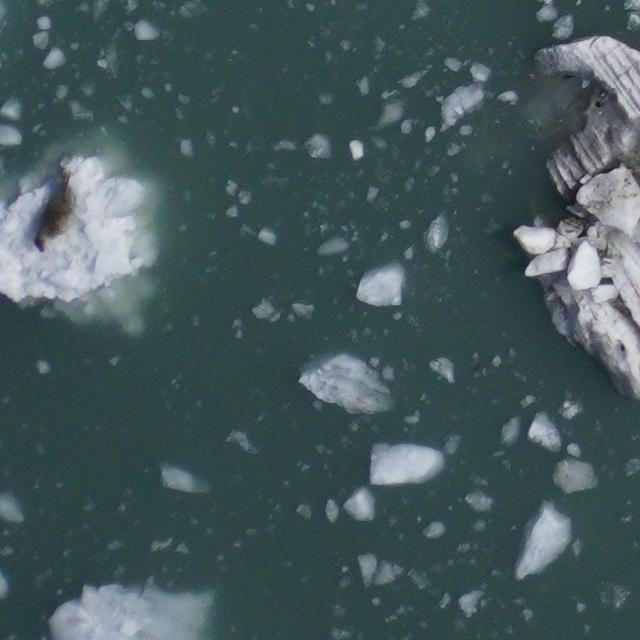seal: (30, 160, 80, 256)
